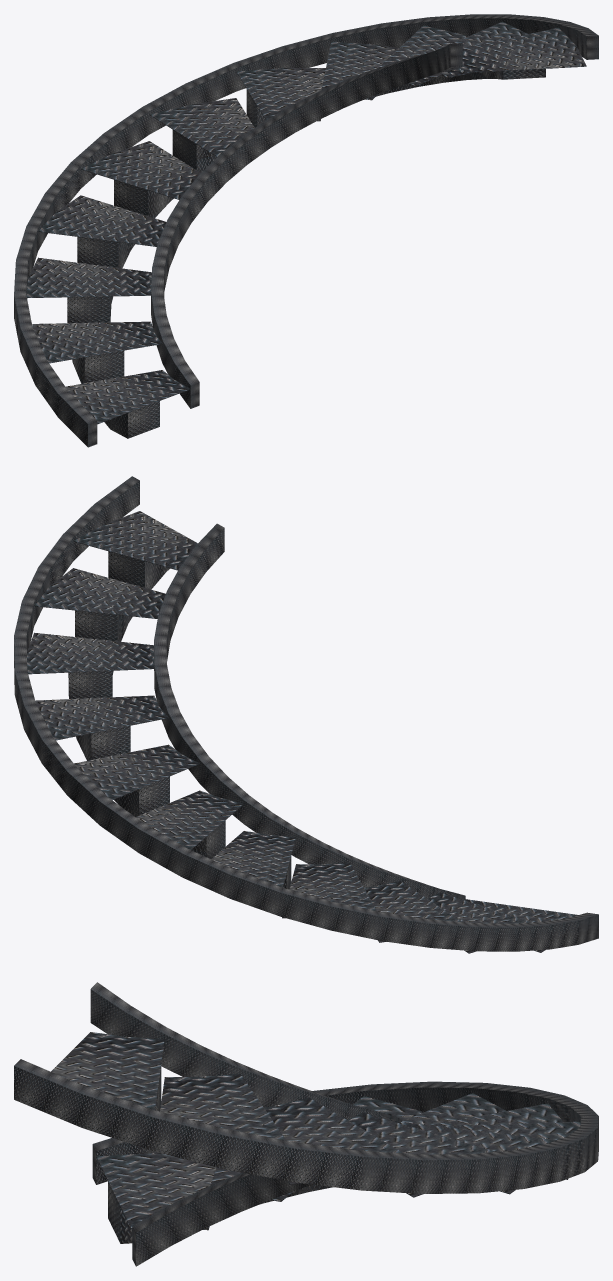
The model's file is Escalera.FBX.
3 views of the same model, one above another, from view 1: azimuth 30°, elevation 25°; view 2: azimuth 150°, elevation 25°; view 3: azimuth 270°, elevation 25° (orthographic). The views are drawn at different scales.
Parts seen in each view (by area): view 1: Escalera; view 2: Escalera; view 3: Escalera.
Part boxes in pixels (left/top/right/bottom): Escalera: left=14, top=14, right=598, bottom=447; Escalera: left=14, top=476, right=598, bottom=953; Escalera: left=14, top=982, right=598, bottom=1266.
Size of the model in its own units: 835 by 503 by 579.
1 material, 1 textured.
